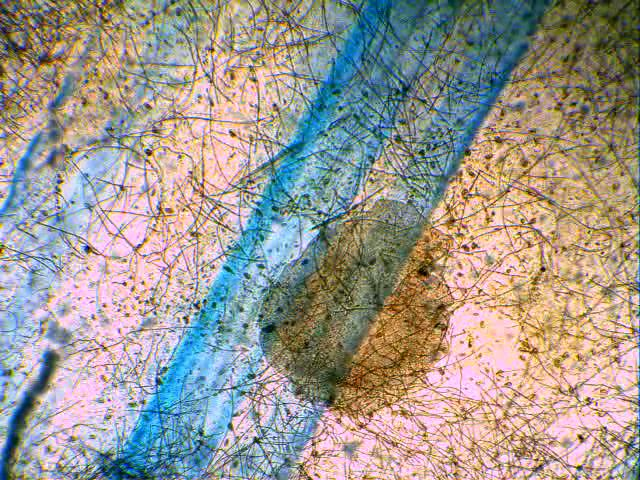Placozoan: (258, 198, 454, 415)
